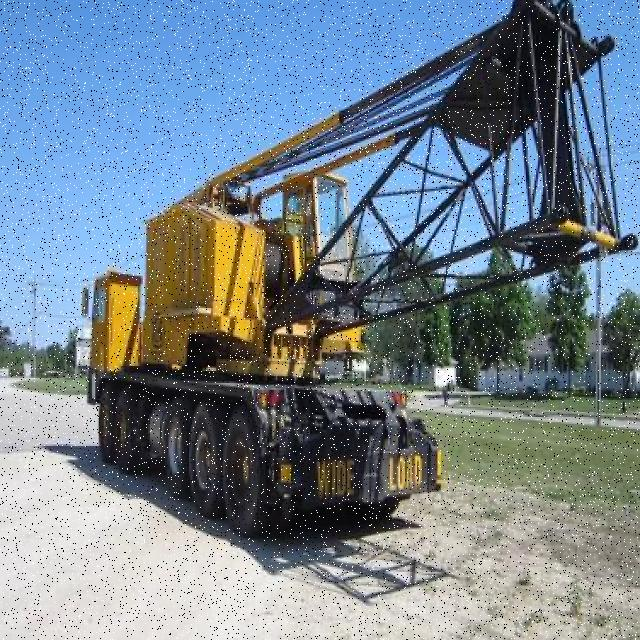Mobile Crane: (87, 0, 635, 536)
